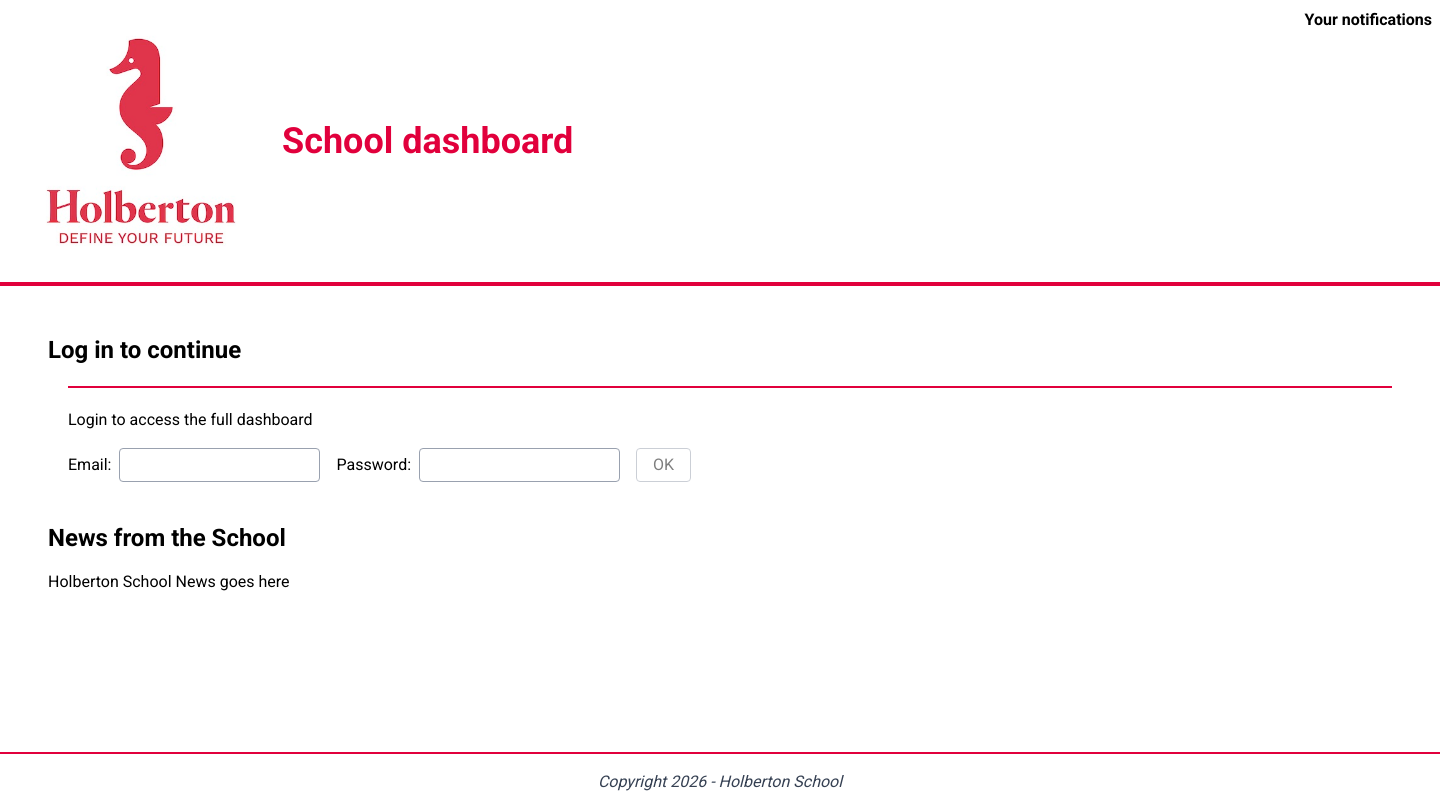
Test: App Component › Notifications State Management › clicking on a notification item removes it and logs the correct message
Click the text "Your notifications". click: (1368, 20)
box: [1305,8,1432,32]
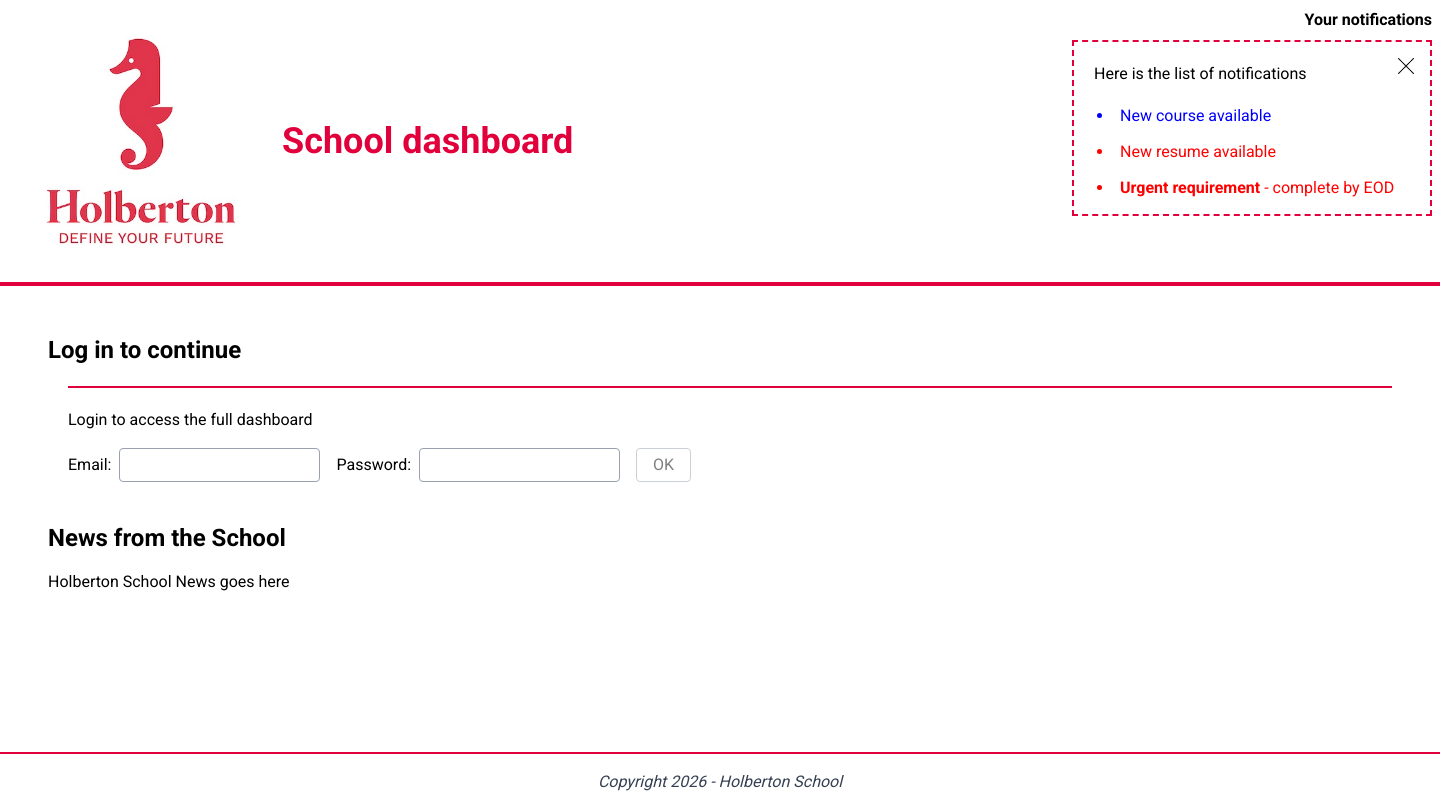
Click the list item "New course available". click: (1196, 116)
box: [1120,106,1271,125]
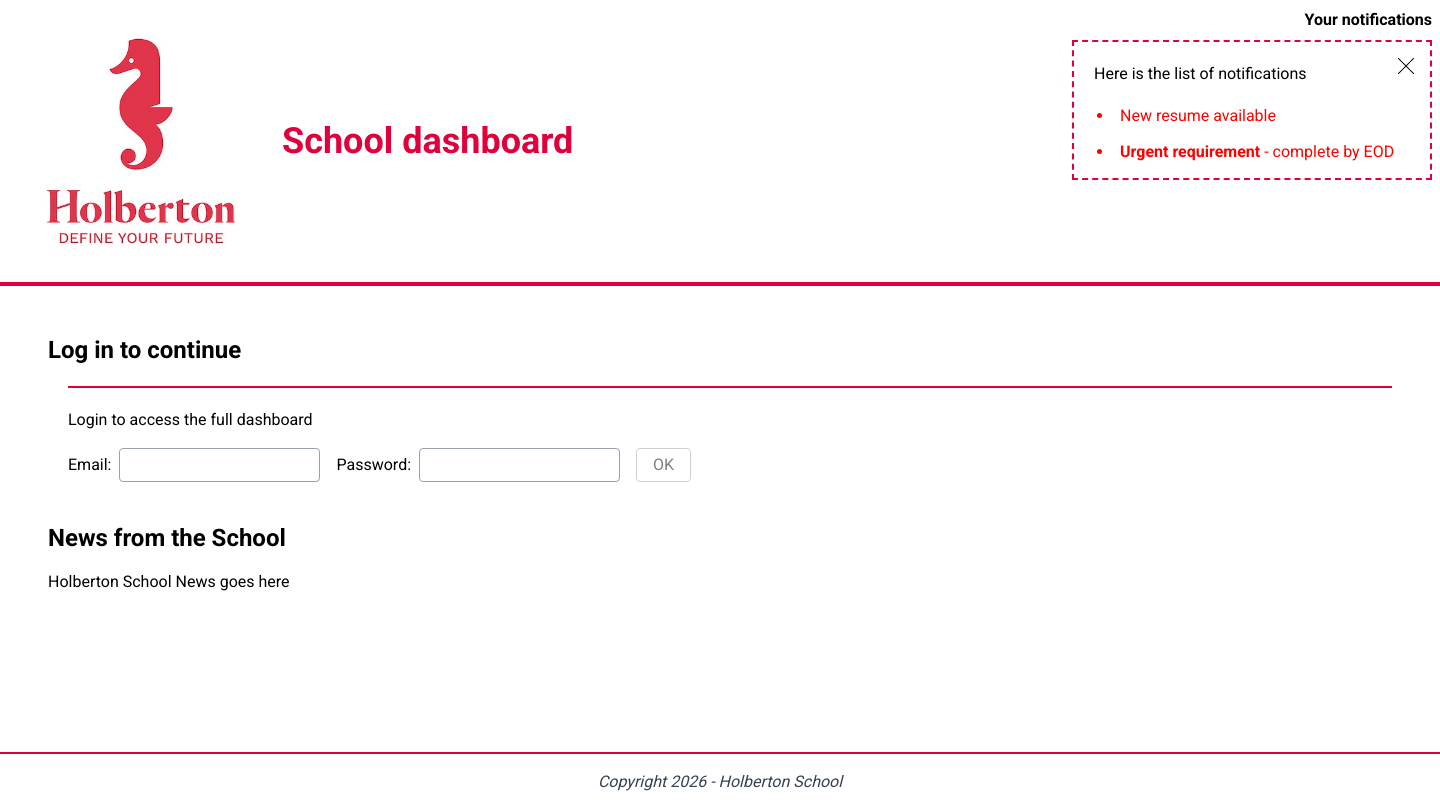
Check: the number of list items is 2, box [1120,106,1276,125]; [1120,142,1394,161]
Check: the list item "New course available" is gone
